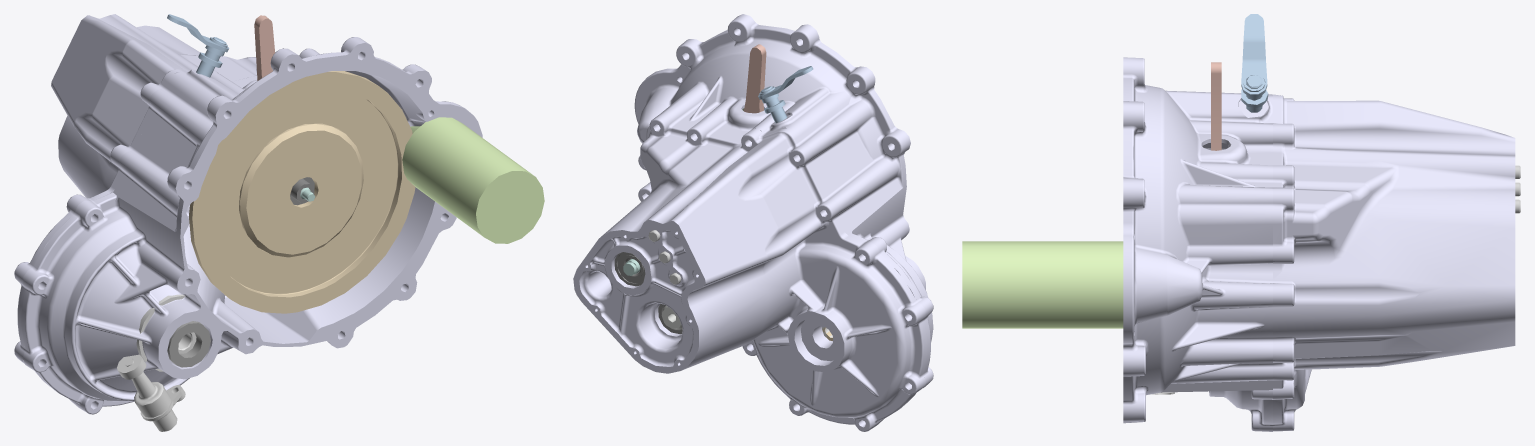
Rendered from HiGear.glb.
The picture shows the model from 3 angles, left to right: view 1: azimuth 30°, elevation 25°; view 2: azimuth 150°, elevation 25°; view 3: azimuth 270°, elevation 25°; orthographic projection. The views are drawn at different scales.
Parts seen in each view (by area): view 1: Clutch Case, Clutch - Wheel, Gear box, Starter(rough), Tachy, Diff_Gasket, Control_Axis, Clutch - Rod, Differential; view 2: Gear box, Clutch Case, Clutch - Rod, Control_Axis, Bearing_MS_GBH; view 3: Gear box, Clutch Case, Starter(rough), Control_Axis, Clutch - Rod.
Part boxes in pixels (x1,y1,x2,y2): Clutch Case: (21,37,482,414); Clutch - Wheel: (188,71,415,313); Gear box: (14,14,319,406); Starter(rough): (402,117,544,243); Tachy: (117,354,185,431); Diff_Gasket: (167,321,210,367); Control_Axis: (167,14,229,77); Clutch - Rod: (254,15,275,80); Differential: (136,294,196,371); Gear box: (573,113,927,431); Clutch Case: (634,14,933,424); Clutch - Rod: (744,44,766,113); Control_Axis: (758,66,813,123); Bearing_MS_GBH: (614,252,645,286); Gear box: (1273,94,1515,431); Clutch Case: (1123,57,1272,431); Starter(rough): (962,241,1123,328); Control_Axis: (1241,14,1268,112); Clutch - Rod: (1211,62,1221,150).
Bounding box in the file's own units: 0.4689 × 0.4339 × 0.5228.
